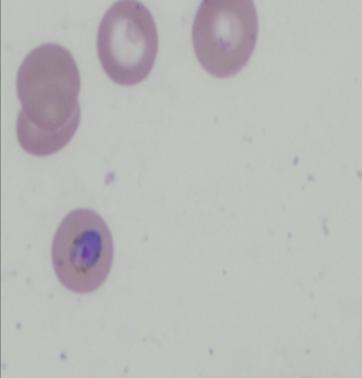Infected: (50, 209, 115, 293)
Uninfected: (96, 0, 159, 86), (16, 43, 79, 127), (191, 0, 256, 78), (16, 89, 78, 155)
